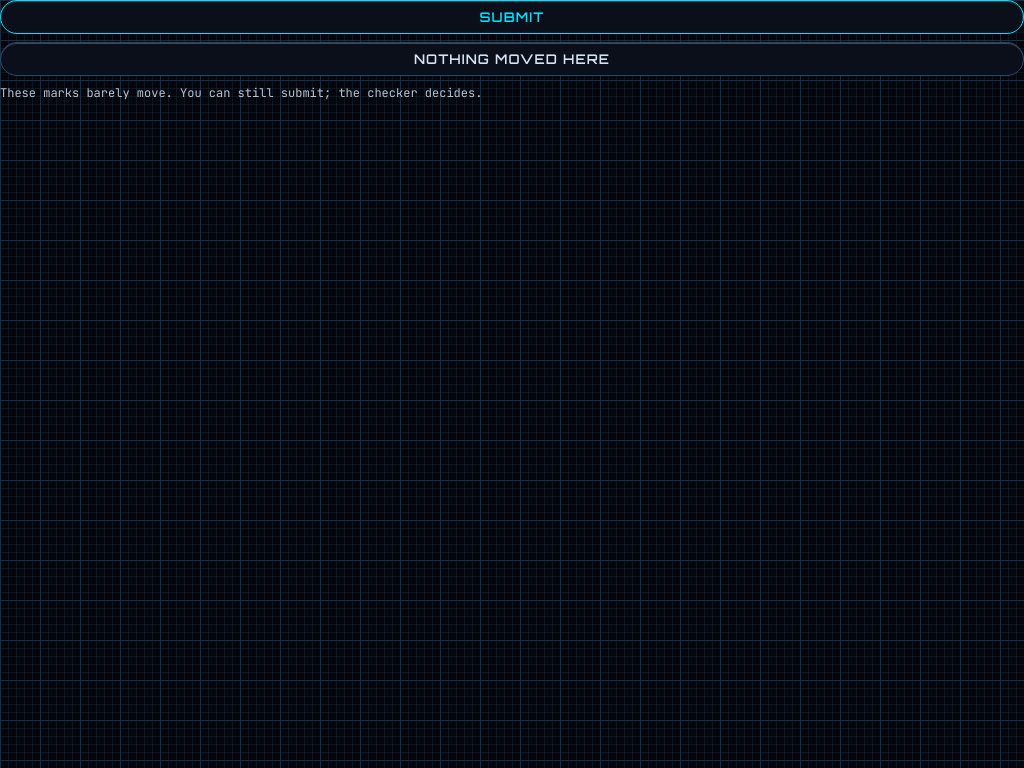
Scenario: SubmitBar › only hints for static-looking marks and still submits them
This screenshot has width=1024, height=768.
Check: the text "These marks barely move. You can still submit; the checker decides." is shown, box top-left (0, 85), bottom-right (482, 101)
Click the button "Submit".
click(512, 17)  # box top-left (0, 0), bottom-right (1023, 34)
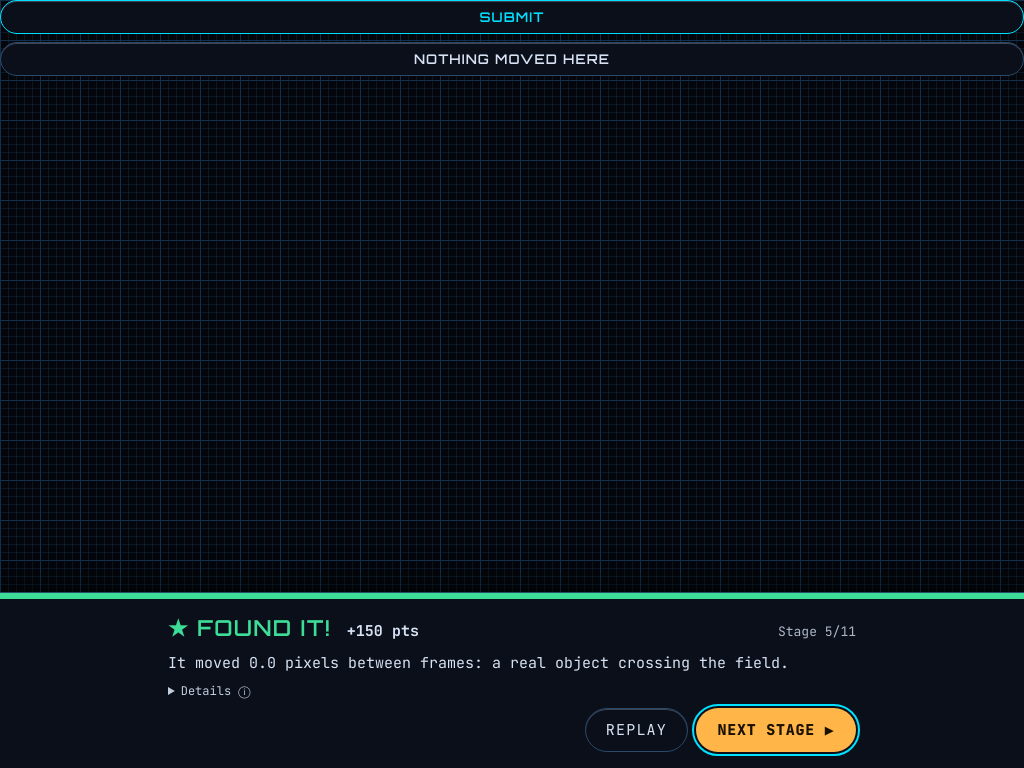
Check: the dialog with test id "verdict" is shown, box top-left (0, 592), bottom-right (1023, 767)
